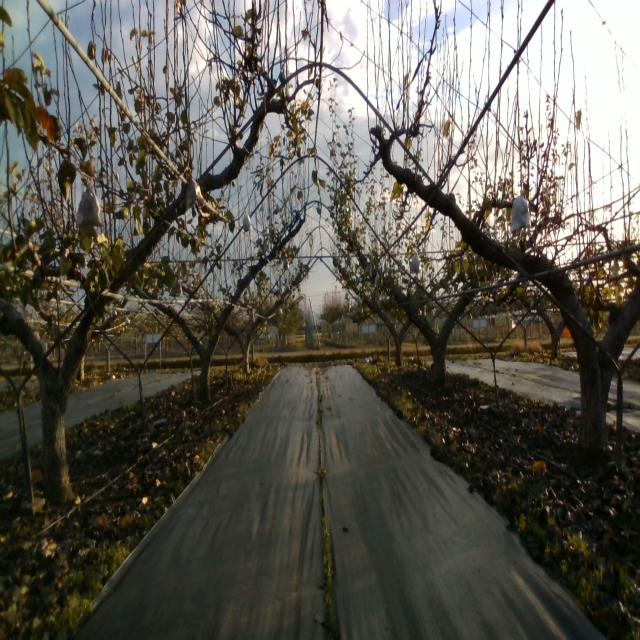pearbags: (76, 180, 105, 228), (510, 190, 531, 232), (184, 169, 204, 210), (409, 252, 421, 275)
